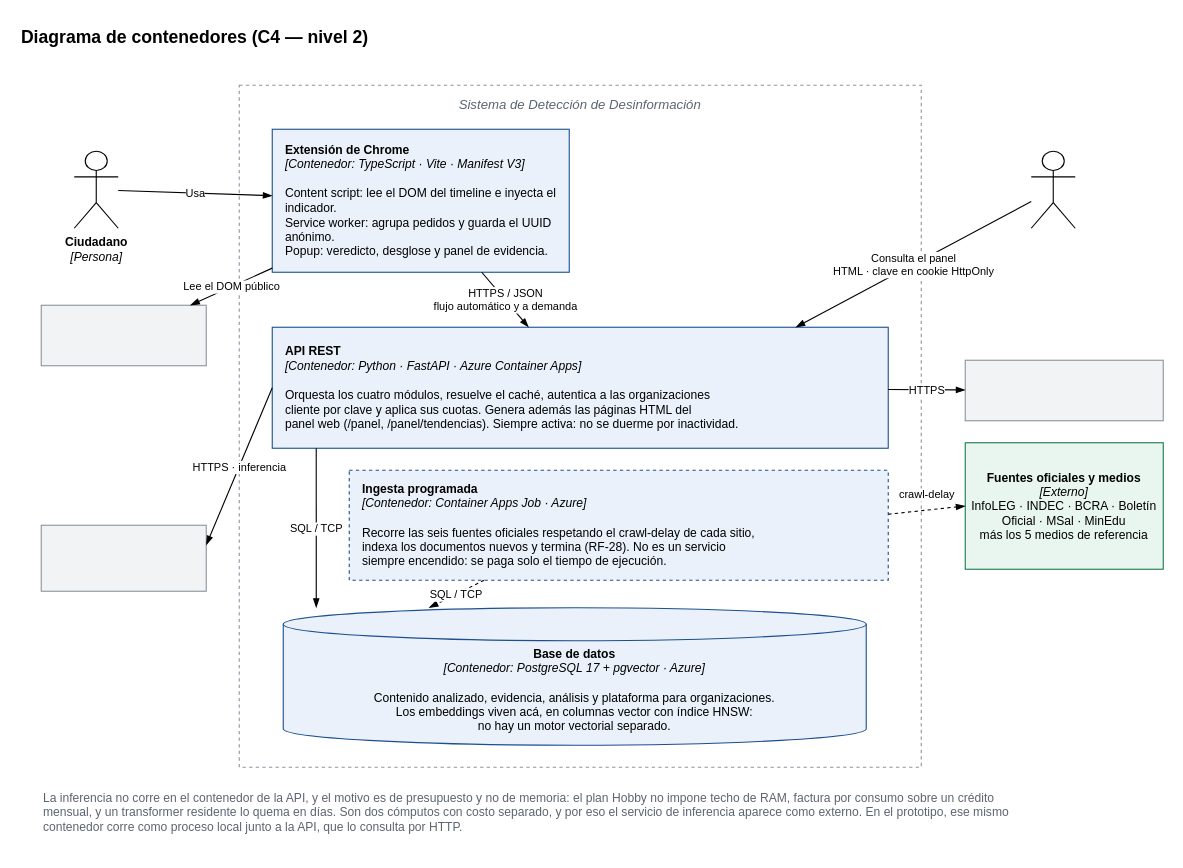
Image size: 1183x868. Some labels were removed from this diagram. Each missing label, with the centre of its shape:
Analista [Persona]: point (1052, 189)
API de búsqueda web [Externo]: point (1063, 390)
Servicio de inferencia [Externo] Clasificador BETO: point (123, 557)
Twitter / X [Externo]: point (123, 335)
